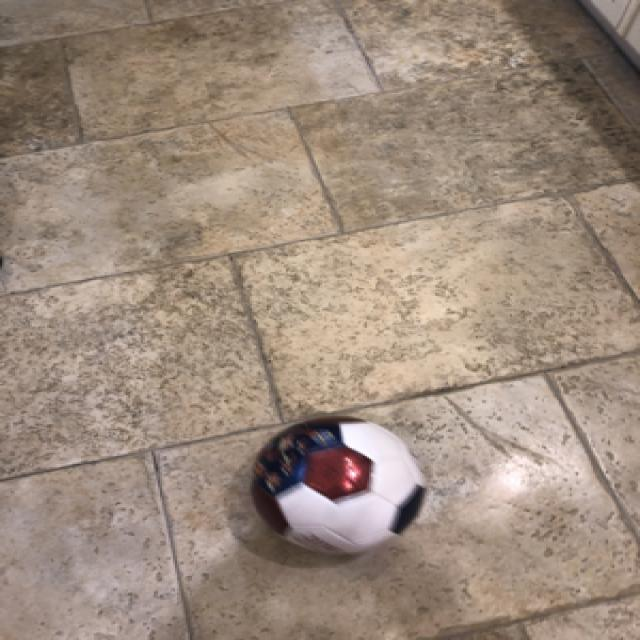soccer_ball: (248, 414, 424, 556)
